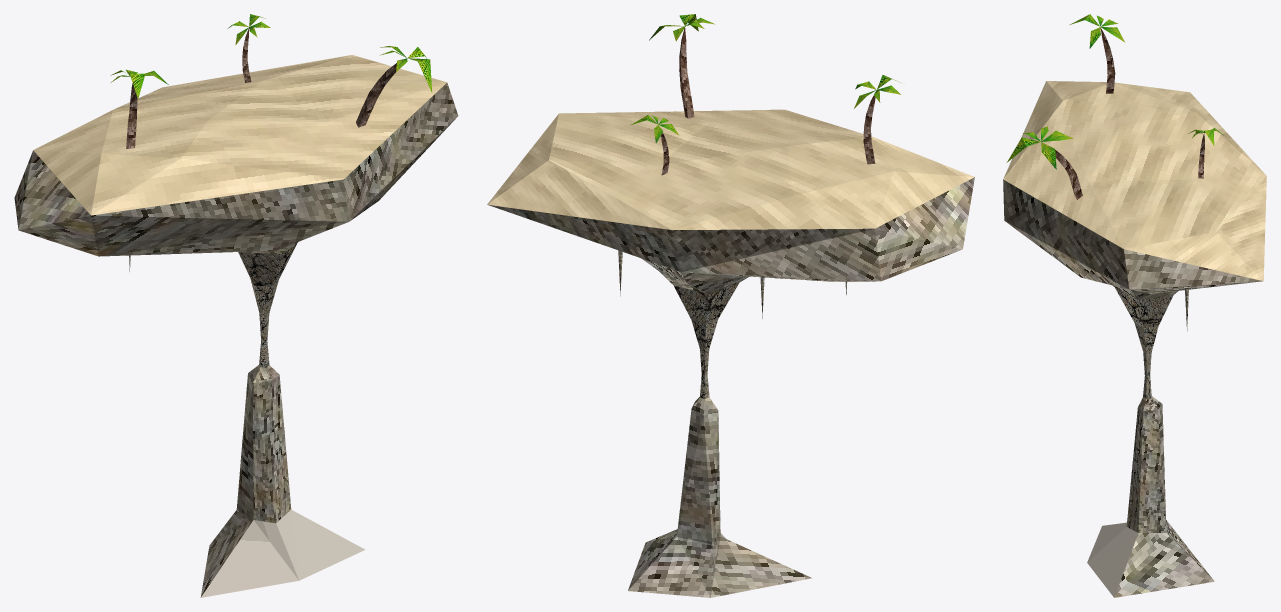
The model's file is beach-_Floating_Island (2).fbx.
The picture shows the model from 3 angles, left to right: view 1: azimuth 30°, elevation 25°; view 2: azimuth 150°, elevation 25°; view 3: azimuth 270°, elevation 25°; orthographic projection. The views are drawn at different scales.
Visible parts, largest first — view 1: island, stilt, palm tree.003, palm tree.002, palm tree.004; view 2: island, stilt, palm tree.003, palm tree.002; view 3: island, stilt, palm tree.003, palm tree.002, palm tree.004.
Part boxes in pixels (box(x1,y1,x2,y2)): island: box(14, 55, 458, 256); stilt: box(200, 242, 365, 597); palm tree.003: box(356, 46, 432, 127); palm tree.002: box(110, 69, 168, 148); palm tree.004: box(227, 14, 270, 82); island: box(487, 109, 974, 281); stilt: box(628, 258, 812, 597); palm tree.003: box(649, 14, 714, 118); palm tree.002: box(854, 75, 901, 164); island: box(1003, 81, 1266, 293); stilt: box(1087, 285, 1214, 597); palm tree.003: box(1007, 126, 1082, 199); palm tree.002: box(1070, 14, 1124, 93); palm tree.004: box(1188, 128, 1223, 178).
Size of the model in its own units: 4.42 by 2.6 by 5.2.
Materials: 6 (6 with a texture image).
